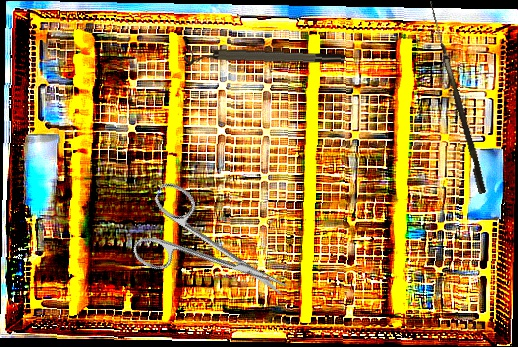Fixation Ring: (184, 43, 345, 73)
Hook Surgical: (421, 0, 490, 195)
Iris Scissors: (123, 178, 305, 331)
